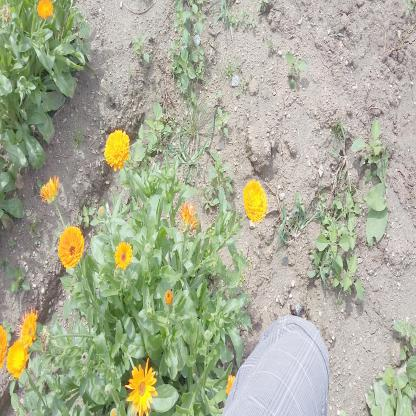marigold: (127, 363, 157, 411), (58, 226, 85, 268), (242, 180, 266, 222), (105, 128, 130, 166), (7, 340, 25, 374), (114, 241, 132, 268), (21, 315, 36, 344), (38, 0, 53, 18)
